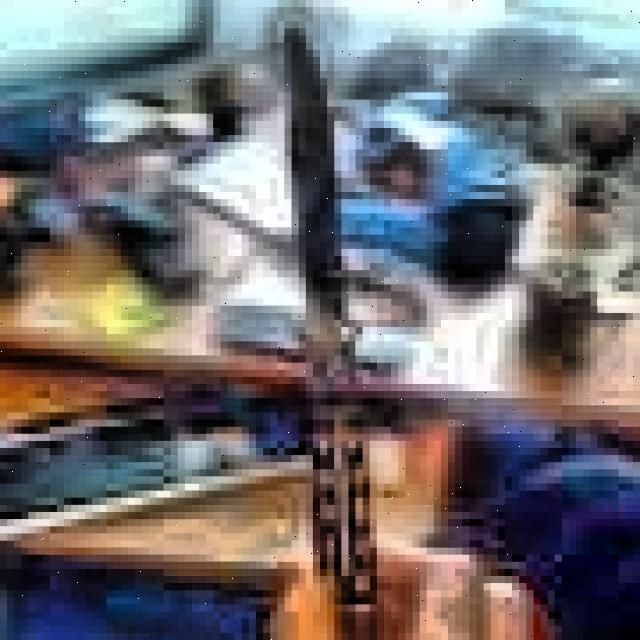knife: (284, 28, 384, 640)
